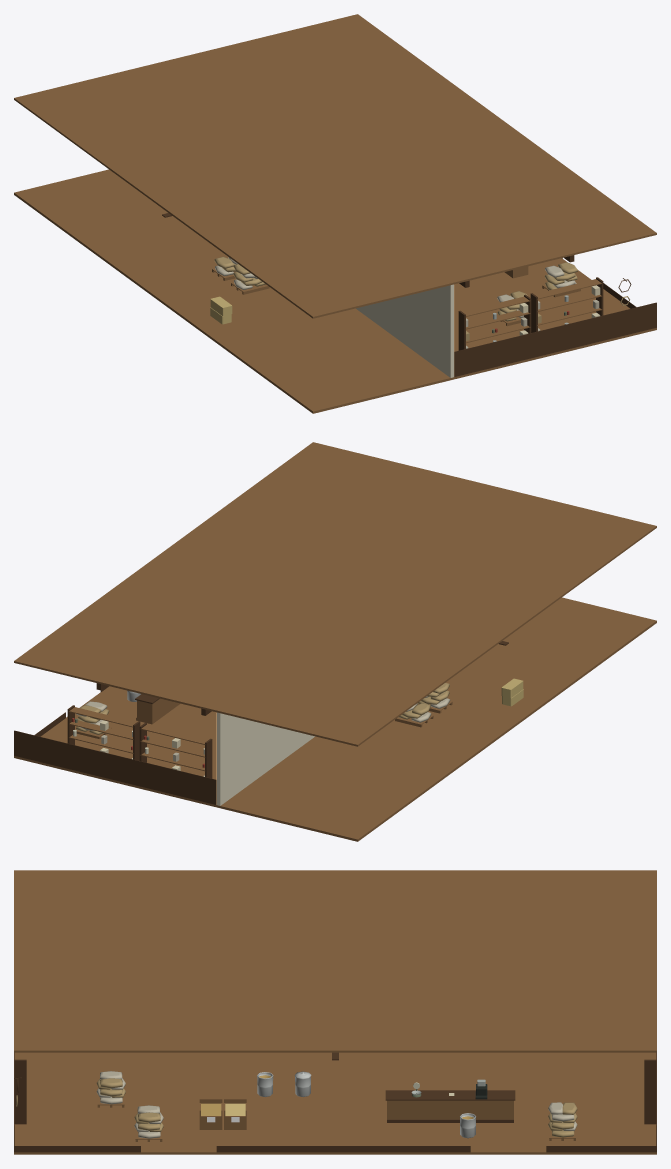
File: SM_Town_Feed_Interior_LOD2.fbx
The picture shows the model from 3 angles, top to bottom: view 1: azimuth 30°, elevation 25°; view 2: azimuth 150°, elevation 25°; view 3: azimuth 270°, elevation 25°; orthographic projection. The views are drawn at different scales.
Parts seen in each view (by area): view 1: SM_Town_Feed_Interior_LOD2; view 2: SM_Town_Feed_Interior_LOD2; view 3: SM_Town_Feed_Interior_LOD2.
Part boxes in pixels (bbox=[...]): SM_Town_Feed_Interior_LOD2: bbox=[14, 14, 656, 413]; SM_Town_Feed_Interior_LOD2: bbox=[14, 442, 656, 841]; SM_Town_Feed_Interior_LOD2: bbox=[14, 870, 656, 1154].
Bounding box in the file's own units: 15.78 × 23.78 × 4.25.
